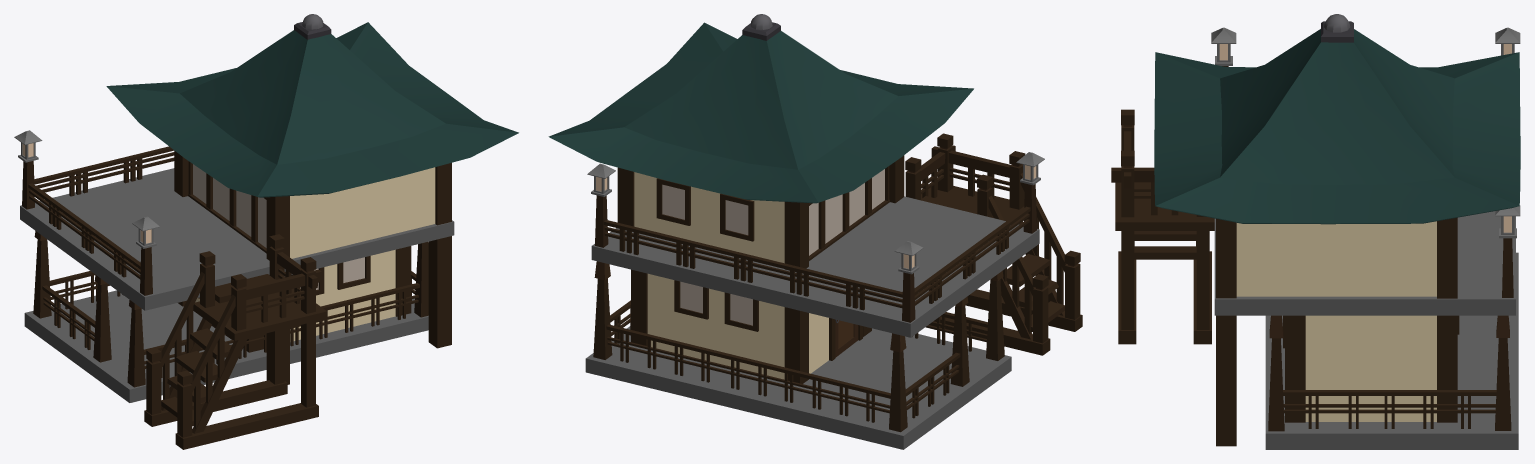
File: houme017 2.fbx
The picture shows the model from 3 angles, left to right: view 1: azimuth 30°, elevation 25°; view 2: azimuth 150°, elevation 25°; view 3: azimuth 270°, elevation 25°; orthographic projection. The views are drawn at different scales.
Parts seen in each view (by area): view 1: houme17_2, stairs_17_1_2, foundation_17_1_2, fence_17_1_2, fence_17_2_2; view 2: houme17_2, foundation_17_1_2, stairs_17_1_2, fence_17_1_2, fence_17_2_2; view 3: houme17_2, foundation_17_1_2, stairs_17_1_2, fence_17_1_2, fence_17_2_2.
Boxes of the visible parts, box(x1,y1,x2,y2) form: houme17_2: box(20, 14, 518, 384); stairs_17_1_2: box(144, 234, 327, 449); foundation_17_1_2: box(24, 290, 428, 402); fence_17_1_2: box(33, 231, 428, 387); fence_17_2_2: box(14, 130, 174, 295); houme17_2: box(548, 14, 1039, 383); foundation_17_1_2: box(585, 326, 1011, 449); stairs_17_1_2: box(905, 133, 1082, 355); fence_17_1_2: box(593, 261, 1004, 432); fence_17_2_2: box(587, 152, 1044, 322); houme17_2: box(1154, 14, 1520, 446); foundation_17_1_2: box(1265, 252, 1518, 449); stairs_17_1_2: box(1111, 109, 1214, 344); fence_17_1_2: box(1268, 315, 1511, 431); fence_17_2_2: box(1211, 27, 1520, 297).
Size of the model in its own units: 1158 by 983 by 963.
